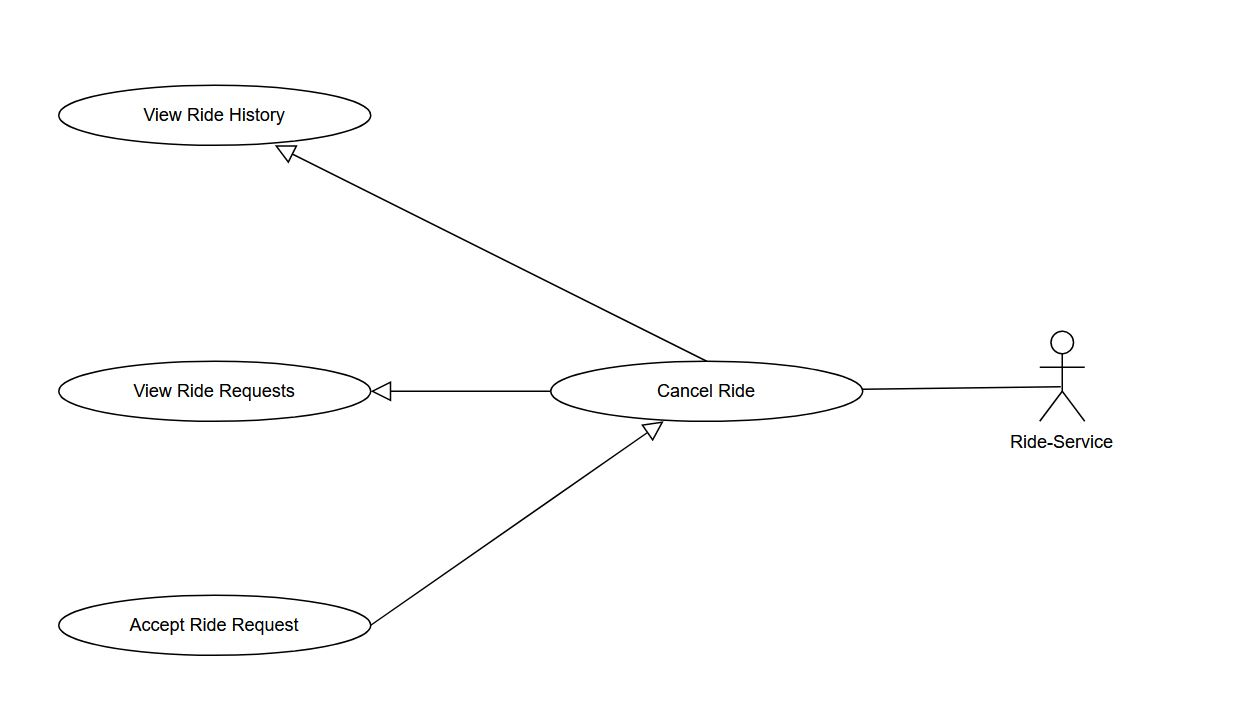actor: (1036, 328, 1091, 425)
association: (862, 377, 1060, 393)
generalization: (276, 142, 703, 358), (374, 421, 665, 626), (369, 375, 550, 404)
text: (124, 610, 302, 640), (130, 377, 294, 406), (138, 100, 291, 130), (996, 427, 1136, 458), (657, 381, 759, 402)
use_case: (57, 591, 373, 660), (57, 81, 372, 149), (56, 359, 373, 425), (547, 359, 861, 425)
